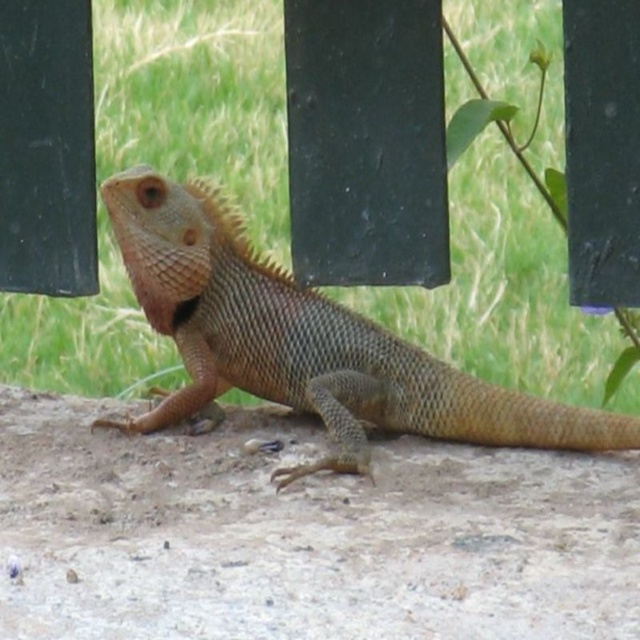Lizard: (89, 164, 640, 495)
